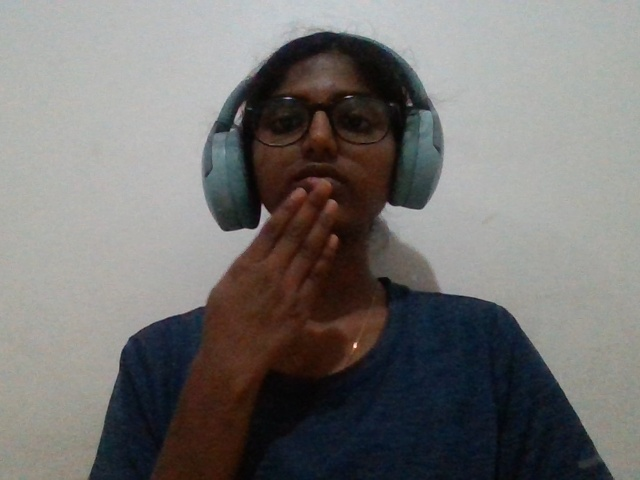Thanks: (172, 163, 374, 415)
